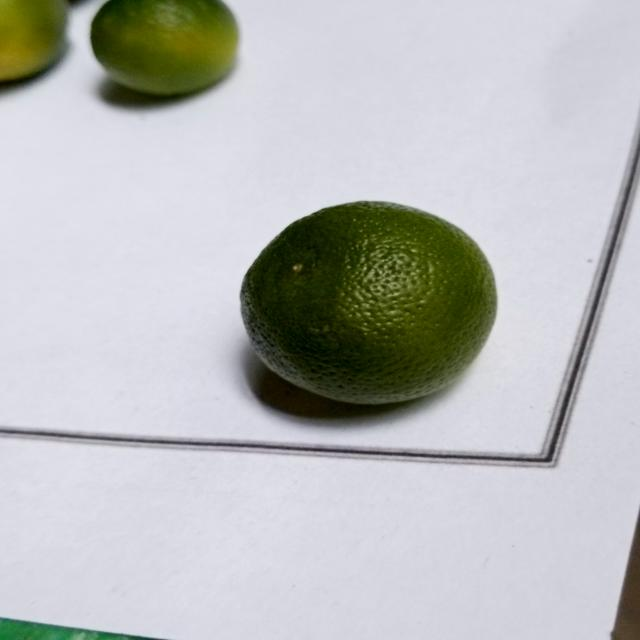heathy: (237, 196, 501, 411)
